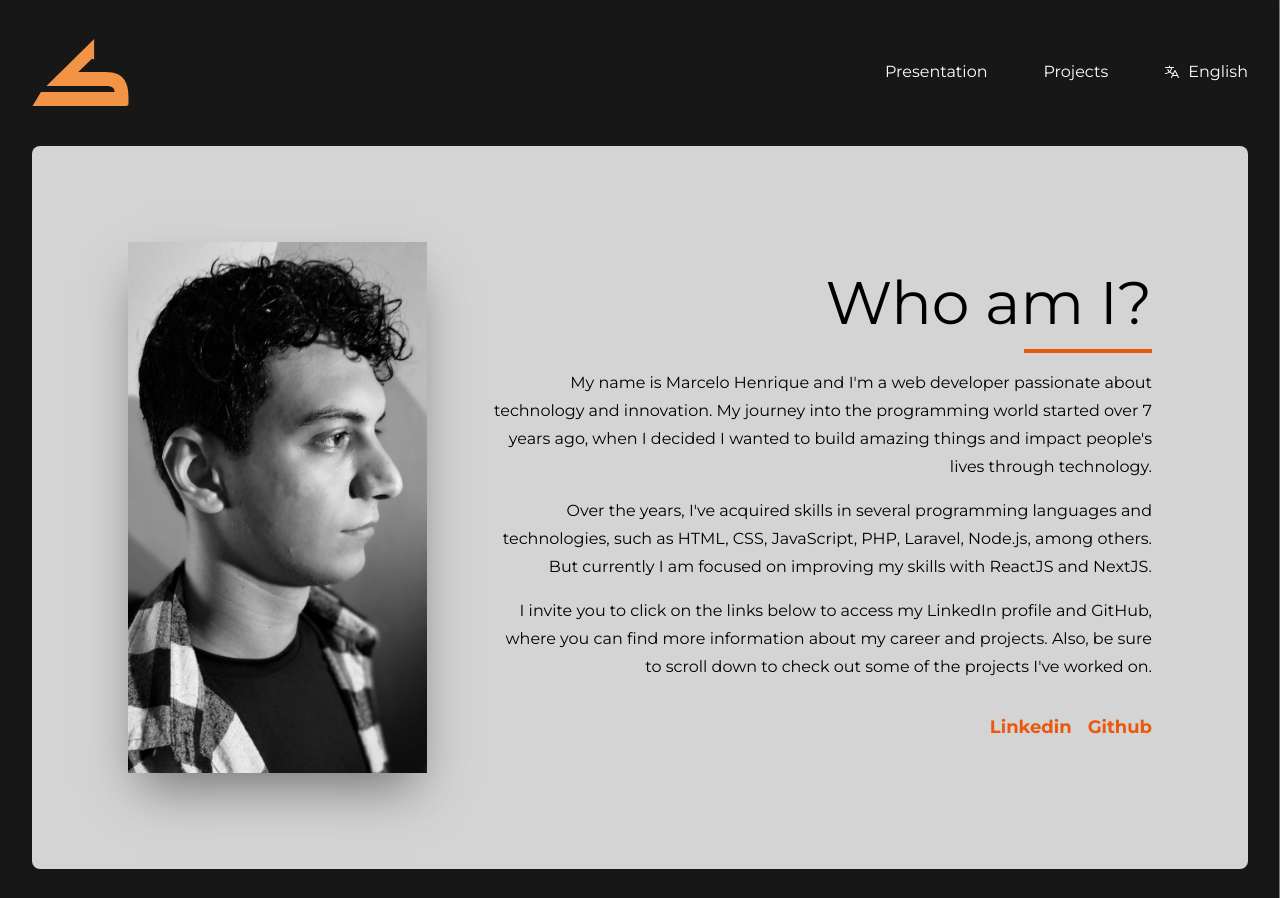
Test: Change languages › should change more information button language when user choose another language on dropdown
Click the button "English". click: (1206, 72)
box: [1164, 60, 1248, 84]
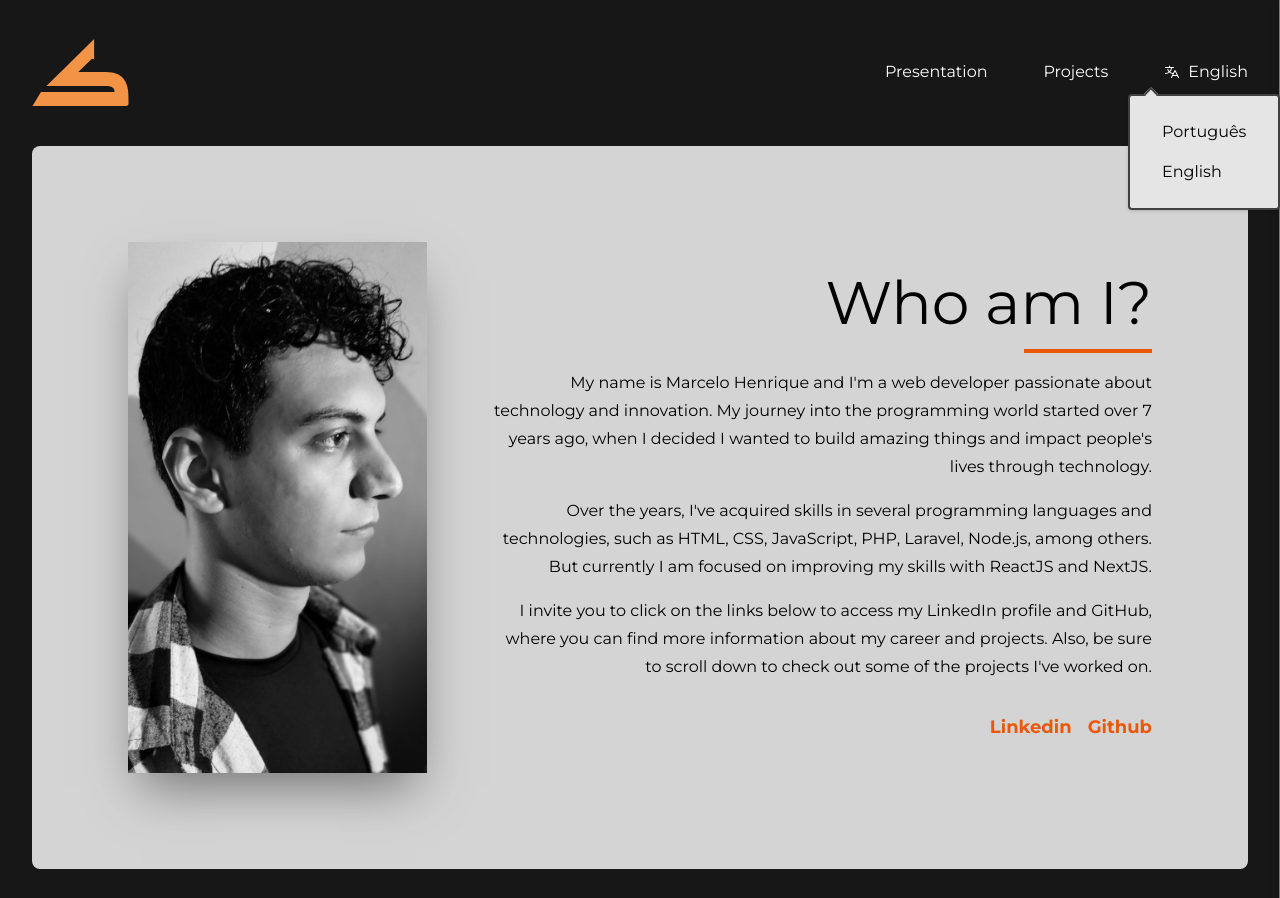
Click the menu item "Português". click: (1204, 132)
box: [1146, 112, 1262, 152]
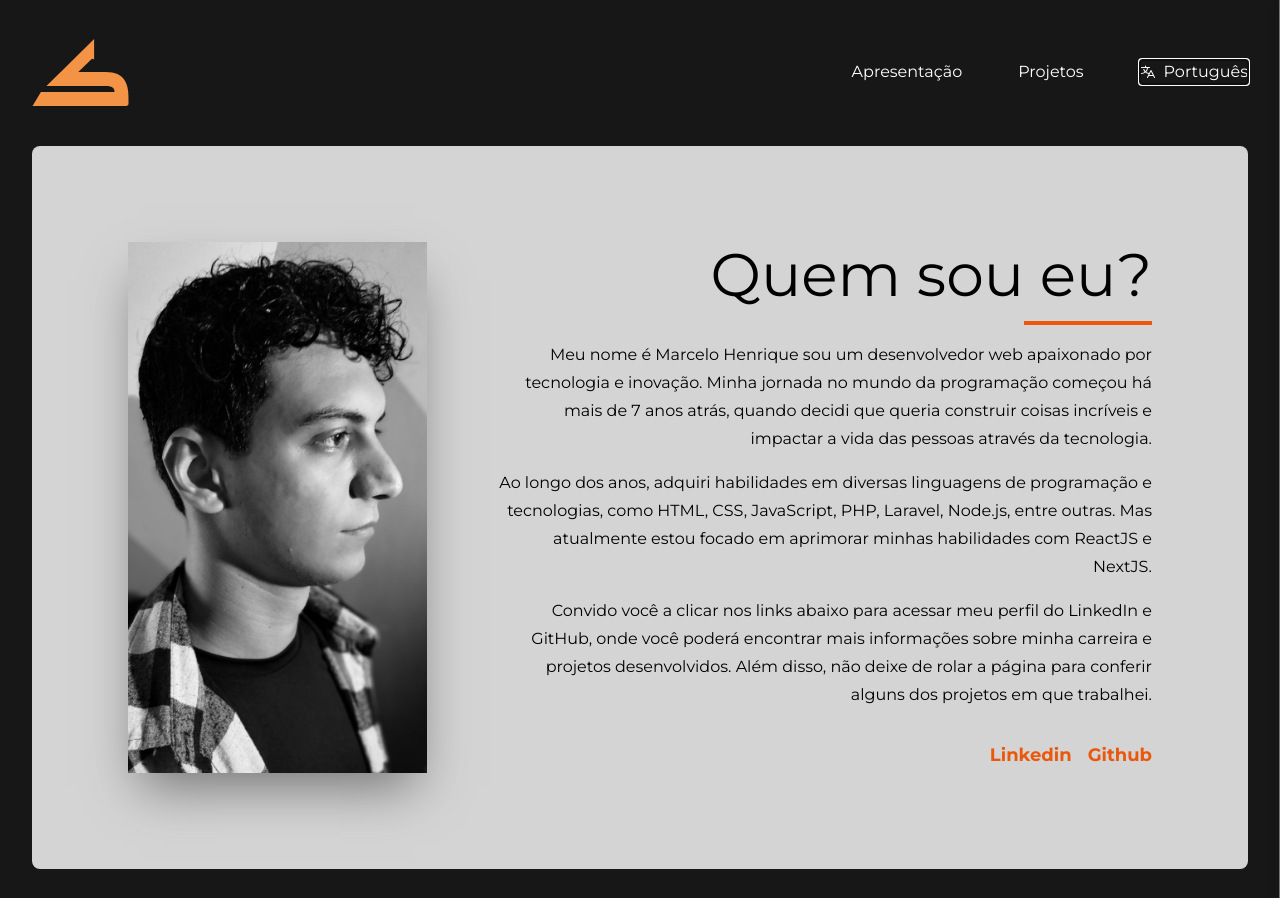
Click the button named "english". click: (1194, 72)
box: [1140, 60, 1248, 84]
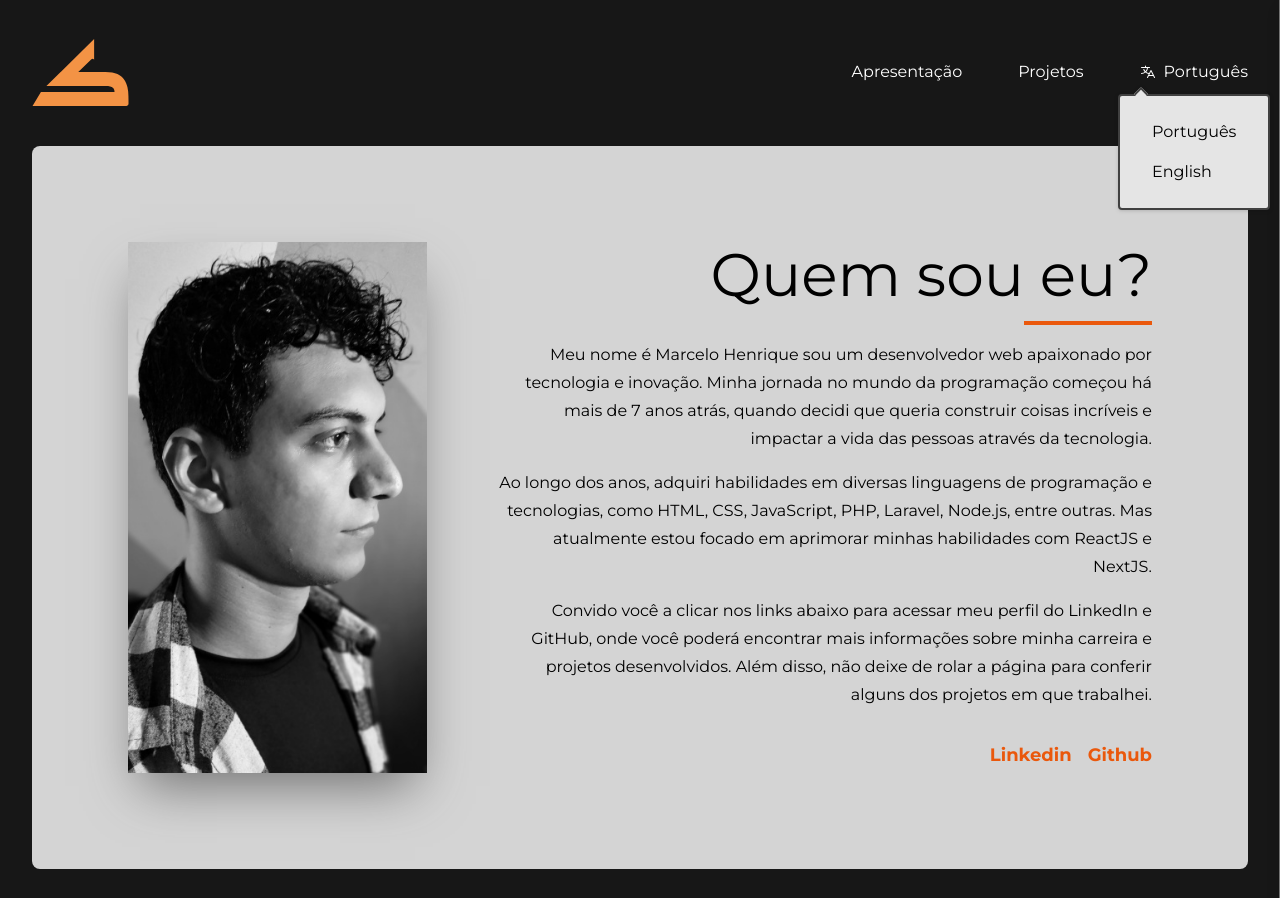
Click the menu item "English". click: (1194, 172)
box: [1136, 152, 1252, 192]
(page scrolled)
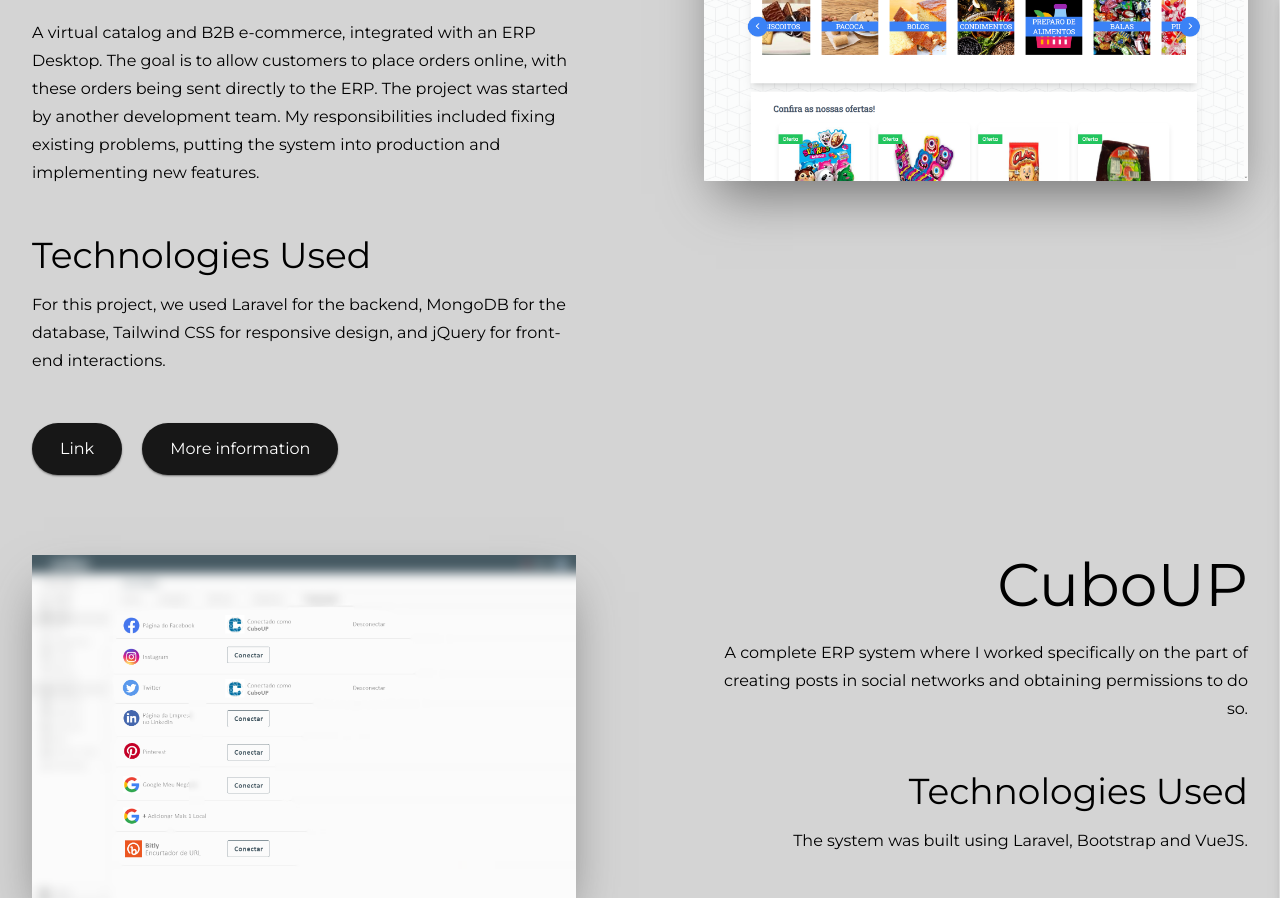
Expected: the link "More information" is shown, [142, 423, 338, 475]
